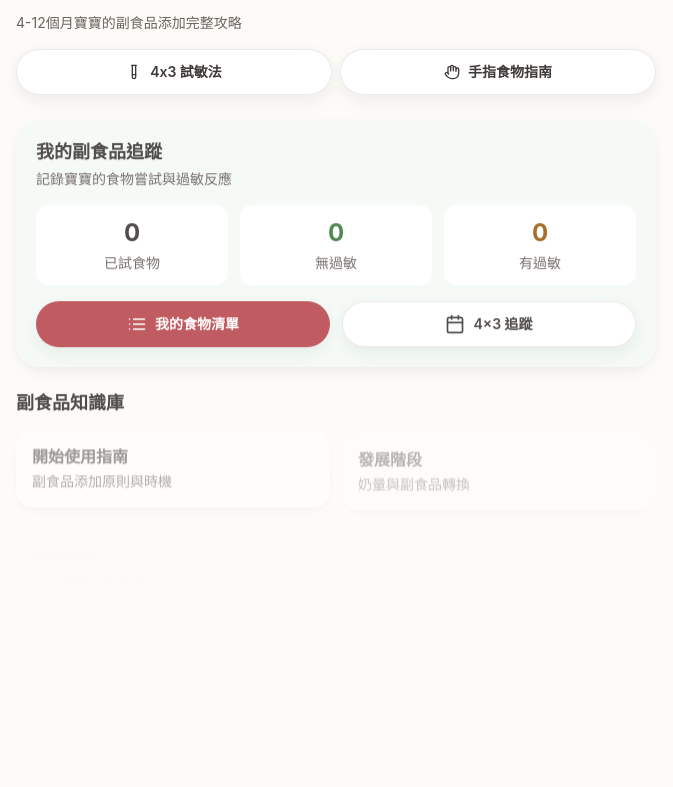
知識庫四張卡片各自通到一個檢視 › 點「開始使用指南」會看到「副食品添加三大原則」
What coordinates should you click on to do the following:
click the heading "開始使用指南"
I would click on:
 (80, 456)
Its box is left=32, top=446, right=128, bottom=466.
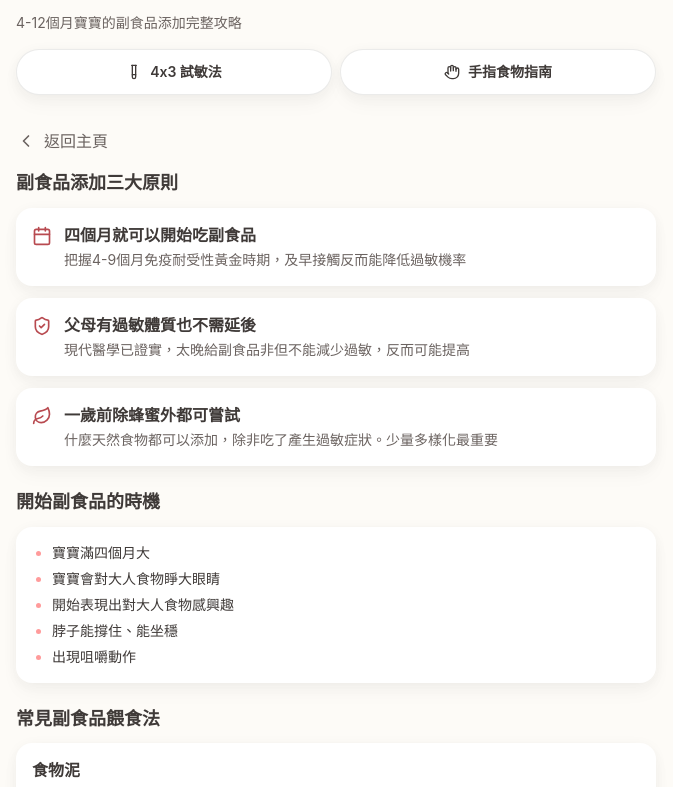
Expected: the heading "副食品添加三大原則" is shown, left=16, top=172, right=178, bottom=193
Expected: the heading "我的副食品追蹤" is gone
